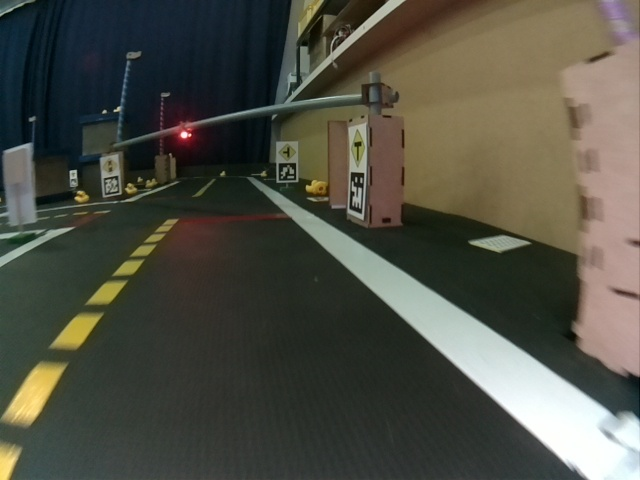Duckie: (77, 191, 89, 202), (125, 184, 136, 193)
Intersection sign: (351, 129, 365, 168), (279, 144, 296, 160)
QR code: (350, 172, 364, 215), (278, 163, 296, 181), (106, 176, 119, 195)
Signal sign: (103, 158, 118, 174)
Traffic light: (178, 122, 191, 139)
